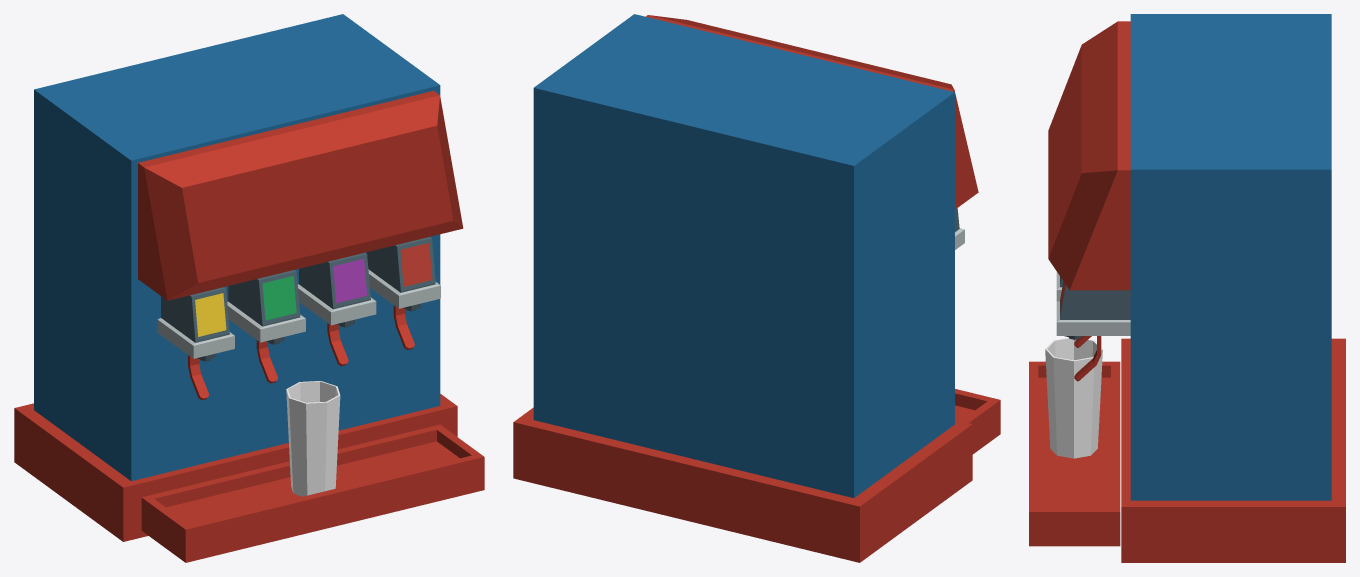
File: Drink_Machine_2_lv4.fbx
3 views of the same model, side by side, from view 1: azimuth 30°, elevation 25°; view 2: azimuth 150°, elevation 25°; view 3: azimuth 270°, elevation 25° (orthographic). The views are drawn at different scales.
Parts seen in each view (by area): view 1: Drink_Machine_2_lv4; view 2: Drink_Machine_2_lv4; view 3: Drink_Machine_2_lv4.
Boxes of the visible parts, x1,y1,x2,y2 form: Drink_Machine_2_lv4: (14, 14, 484, 562); Drink_Machine_2_lv4: (513, 14, 1000, 562); Drink_Machine_2_lv4: (1029, 14, 1345, 562).
Size of the model in its own units: 113 by 121 by 89.8.
